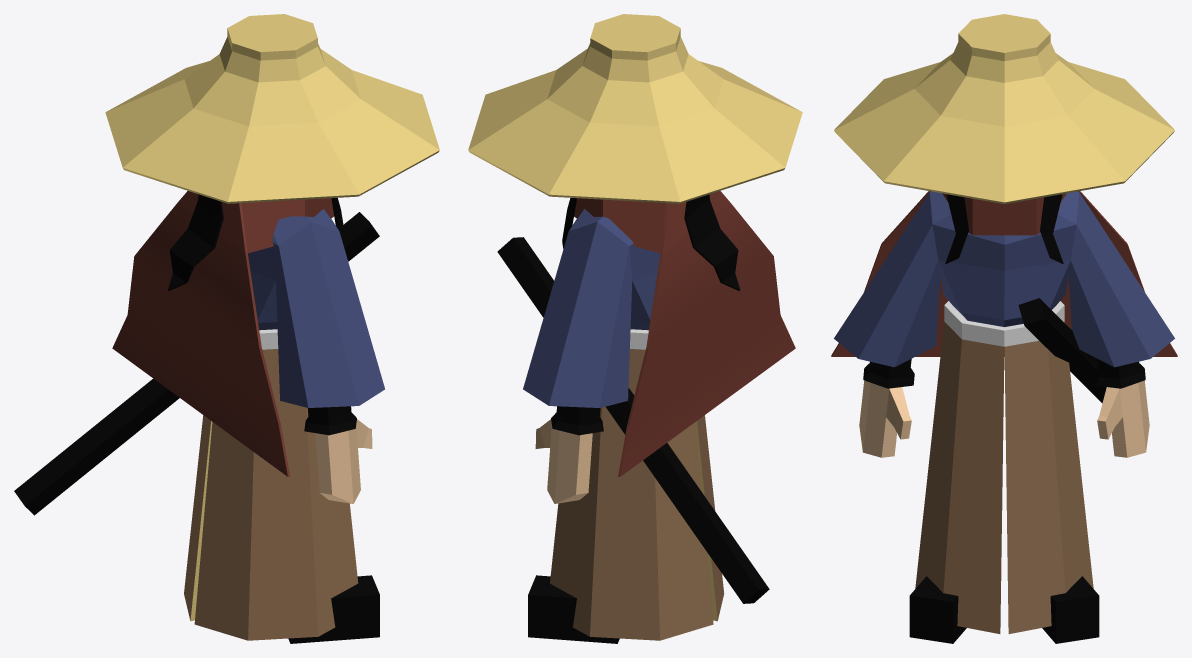
File: M_Player_Blockout.fbx
The picture shows the model from 3 angles, left to right: view 1: azimuth 30°, elevation 25°; view 2: azimuth 150°, elevation 25°; view 3: azimuth 270°, elevation 25°; orthographic projection.
Parts seen in each view (by area): view 1: Cube; view 2: Cube; view 3: Cube.
Part boxes in pixels (bbox=[...]): Cube: bbox=[14, 14, 439, 643]; Cube: bbox=[468, 14, 802, 643]; Cube: bbox=[831, 14, 1177, 643].
Bounding box in the file's own units: 359 × 588 × 321.
